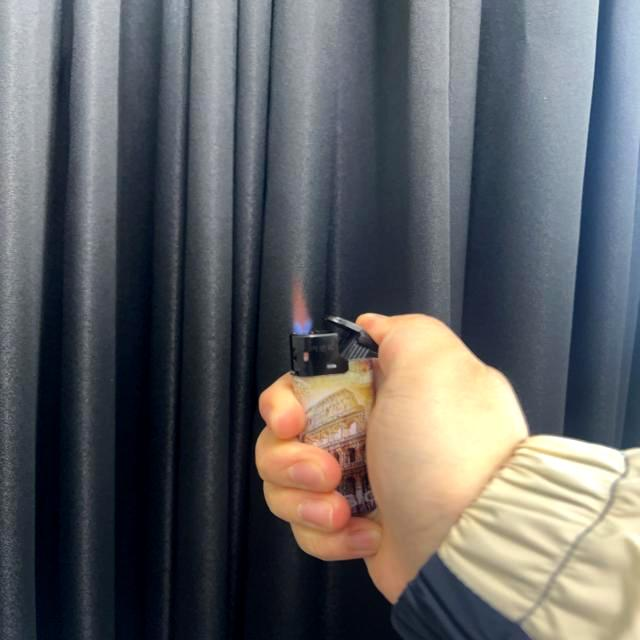fire: (287, 276, 313, 336)
